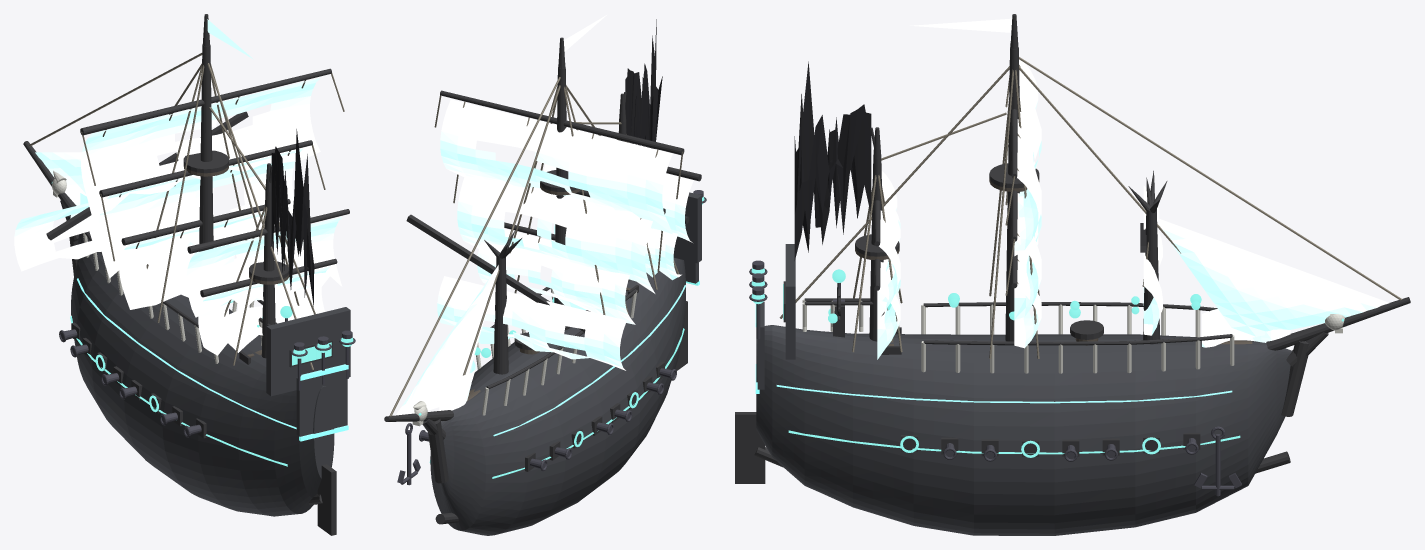
Rendered from wraithmoor_ghost_frigate.glb.
The picture shows the model from 3 angles, left to right: view 1: azimuth 30°, elevation 25°; view 2: azimuth 150°, elevation 25°; view 3: azimuth 270°, elevation 25°; orthographic projection. The views are drawn at different scales.
Visible parts, largest first — view 1: hull, sail_main_0, sail_main_1, sail_mizzen_0, stern_wall, sail_mizzen_1, ensign, sail_fore_rag, sail_main_2, transom, mast_main, yard_main_0 (+17 smaller); view 2: hull, sail_main_0, sail_main_1, sail_fore_rag, sail_main_2, jib_1, ensign, yard_main_0, sail_mizzen_0, mast_fore, stern_wall, sail_mizzen_1 (+9 smaller); view 3: hull, jib_1, ensign, sail_main_0, rudder, sail_mizzen_0, mast_main, sail_fore_rag, sail_main_1, sail_main_2, sail_mizzen_1, stay_0 (+11 smaller).
Boxes of the visible parts, x1,y1,x2,y2 form: hull: (71, 231, 334, 516); sail_main_0: (81, 77, 320, 216); sail_main_1: (98, 149, 302, 278); sail_mizzen_0: (186, 217, 342, 317); stern_wall: (266, 307, 350, 396); sail_mizzen_1: (198, 266, 329, 355); ensign: (271, 129, 314, 306); sail_fore_rag: (14, 190, 199, 271); sail_main_2: (119, 211, 264, 309); transom: (296, 370, 347, 436); mast_main: (199, 44, 213, 251); yard_main_0: (80, 68, 331, 135); hull: (430, 258, 685, 535); sail_main_0: (440, 99, 672, 234); sail_main_1: (457, 175, 655, 293); sail_fore_rag: (437, 276, 626, 370); sail_main_2: (477, 229, 635, 324); jib_1: (390, 265, 498, 422); ensign: (625, 19, 662, 148); yard_main_0: (440, 90, 684, 155); sail_mizzen_0: (544, 164, 693, 242); mast_fore: (493, 255, 508, 374); stern_wall: (673, 192, 701, 263); sail_mizzen_1: (554, 224, 681, 280); hull: (756, 325, 1292, 535); jib_1: (1157, 218, 1400, 339); ensign: (794, 61, 871, 260); sail_main_0: (1014, 59, 1041, 256); rudder: (735, 412, 765, 483); sail_mizzen_0: (877, 171, 900, 321); mast_main: (1005, 47, 1019, 341); sail_fore_rag: (1143, 185, 1162, 335); sail_main_1: (1014, 160, 1041, 322); sail_main_2: (1014, 237, 1041, 348); sail_mizzen_1: (877, 259, 900, 359); stay_0: (1019, 57, 1402, 300).
Bounding box in the file's own units: 6.94 × 11.98 × 14.24.
